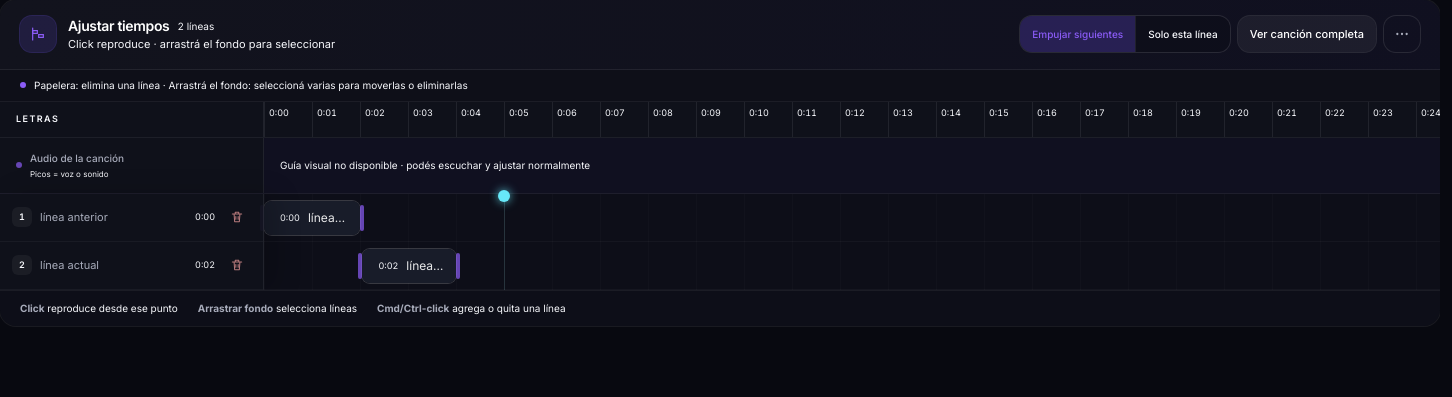
Test: LyricsTimeline › keeps the left edge protected even while right-edge ripple is the default
Press the mouse on the 2nd element with test id "timeline-edge-start" at (360, 266), box [358, 252, 362, 278]
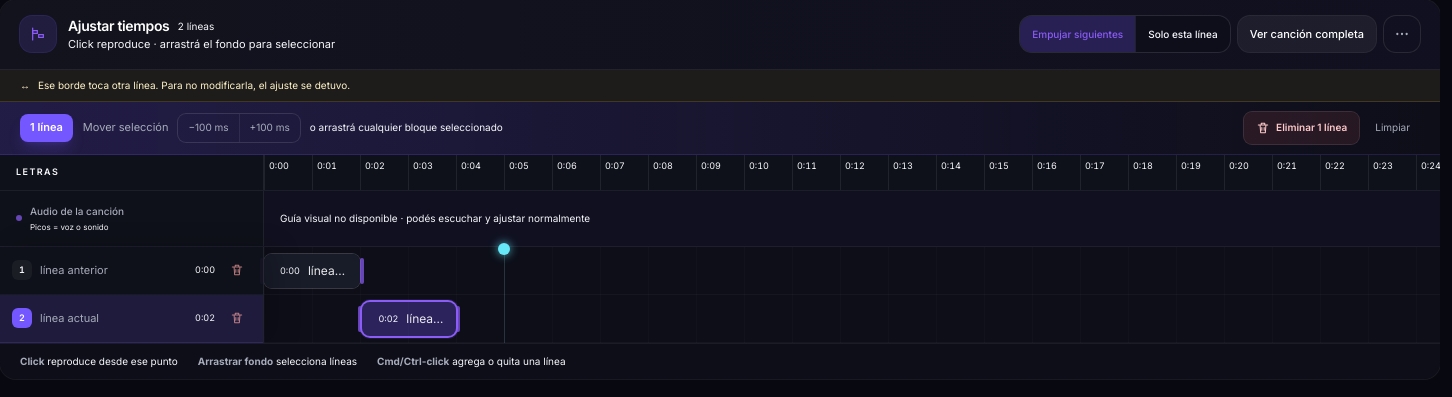
Expected: the message with test id "timeline-limit-feedback" shows "Para no modificarla, el ajuste se detuvo", [38, 78, 350, 90]
